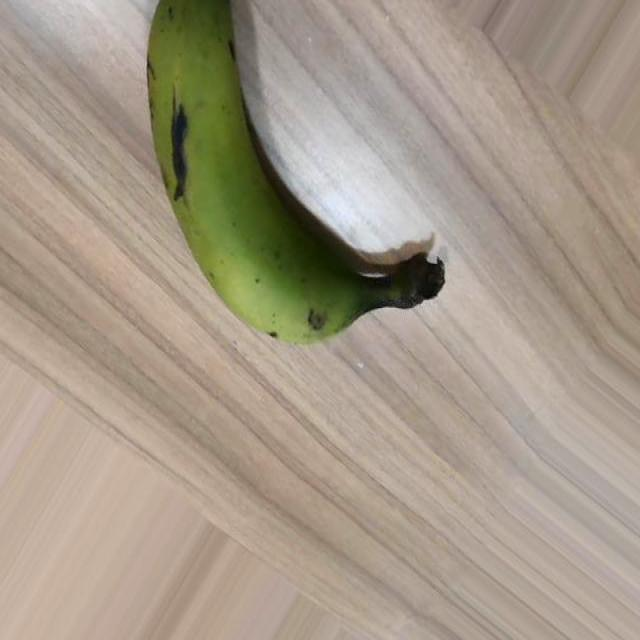Unripe: (146, 0, 448, 341)
